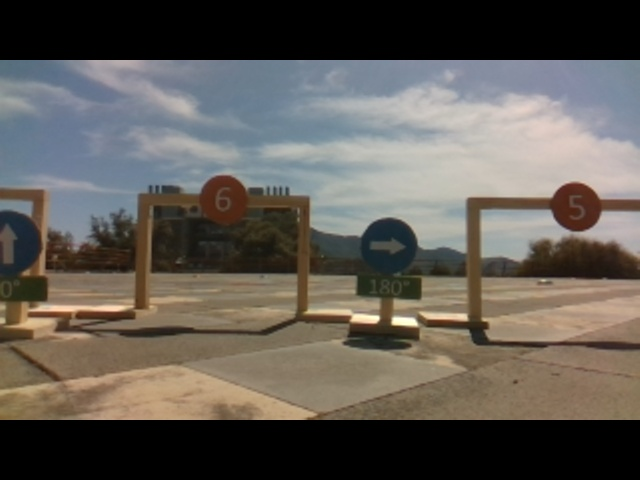0_degree: (1, 274, 53, 303)
180_degree: (352, 271, 424, 301)
arrow_right: (356, 213, 419, 272)
arrow_up: (1, 207, 45, 273)
checkpoint_foot: (79, 300, 161, 321), (418, 308, 488, 328), (293, 305, 352, 325), (30, 301, 76, 321)
checkpoint_side: (461, 190, 488, 321), (291, 191, 316, 310), (132, 188, 156, 305)
checkpoint_signal: (137, 189, 317, 211), (463, 194, 640, 213)
five: (551, 176, 603, 231)
six: (194, 174, 251, 225)
